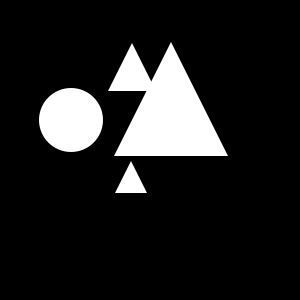rectangle: (39, 88, 103, 152)
triangle: (114, 42, 228, 156), (108, 43, 156, 91), (115, 161, 147, 193)
